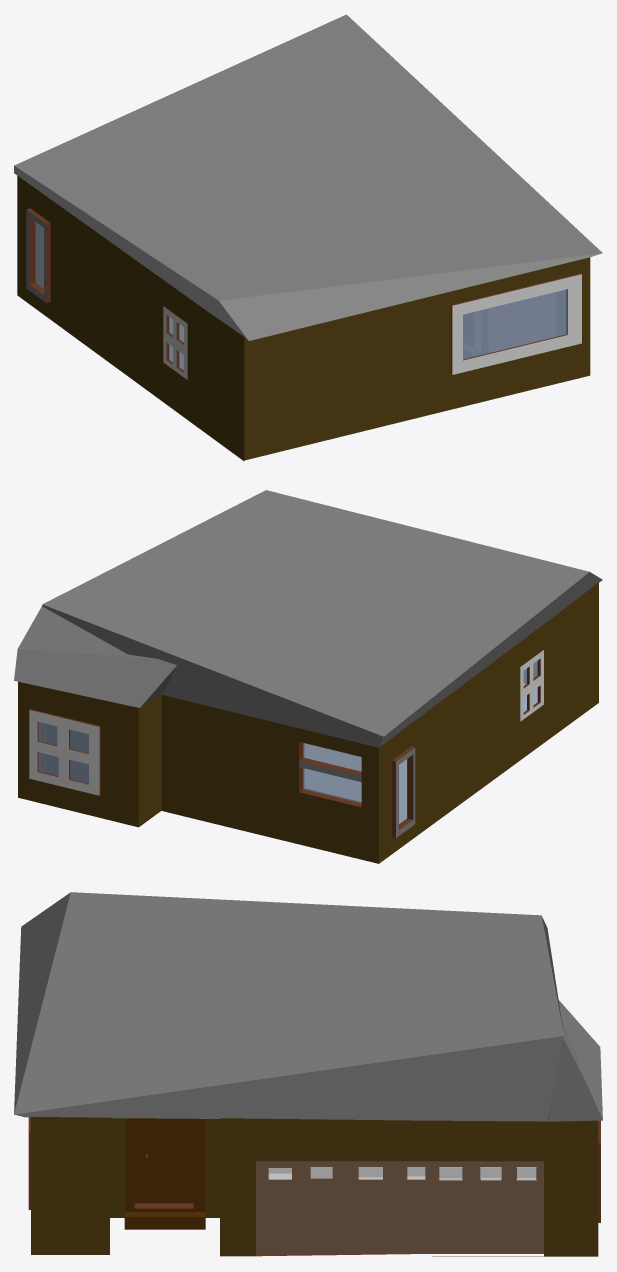
Rendered from house3.fbx.
3 renders of one model, top to bottom at view 1: azimuth 30°, elevation 25°; view 2: azimuth 150°, elevation 25°; view 3: azimuth 270°, elevation 25°, orthographic. The views are drawn at different scales.
Parts seen in each view (by area): view 1: house3; view 2: house3, Cube; view 3: house3.
Boxes of the visible parts, box(x1,y1,x2,y2) form: house3: box(14, 14, 602, 460); house3: box(14, 490, 602, 863); Cube: box(399, 759, 407, 823); house3: box(14, 892, 602, 1256).
Bounding box in the file's own units: 2078 × 1073 × 2603.
